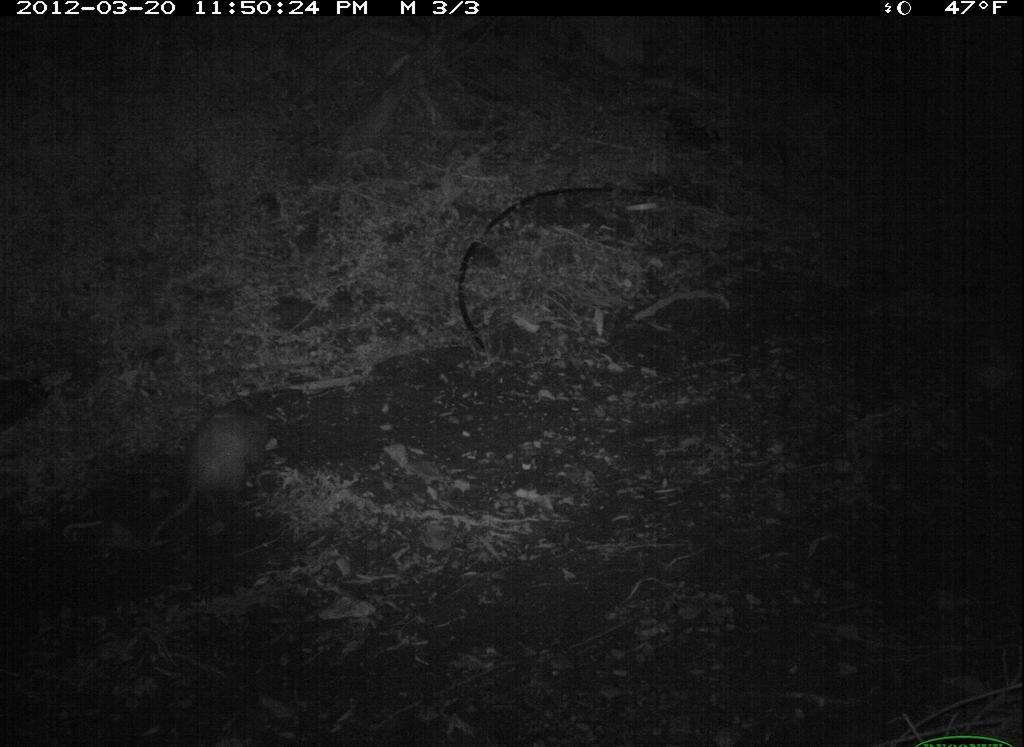opossum: (136, 358, 322, 569)
